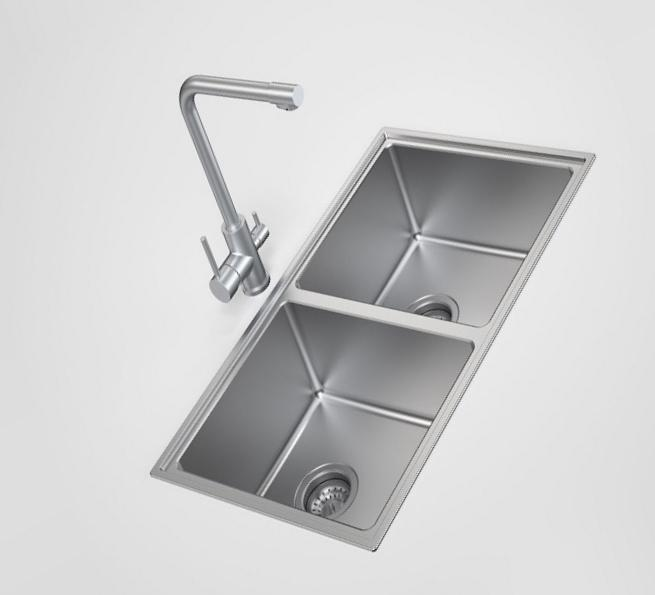Lavaplatos: (156, 38, 604, 555)
